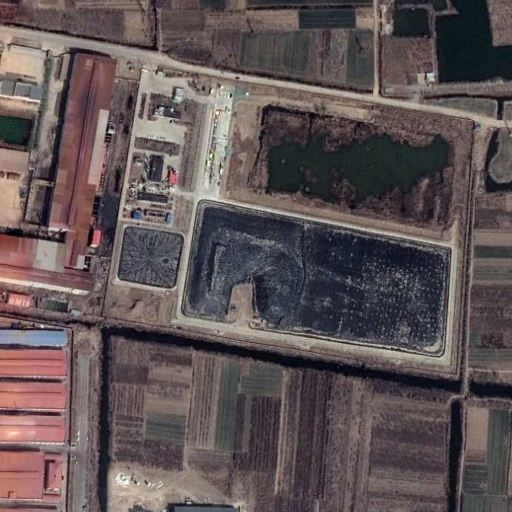lf: (180, 84, 470, 358)
